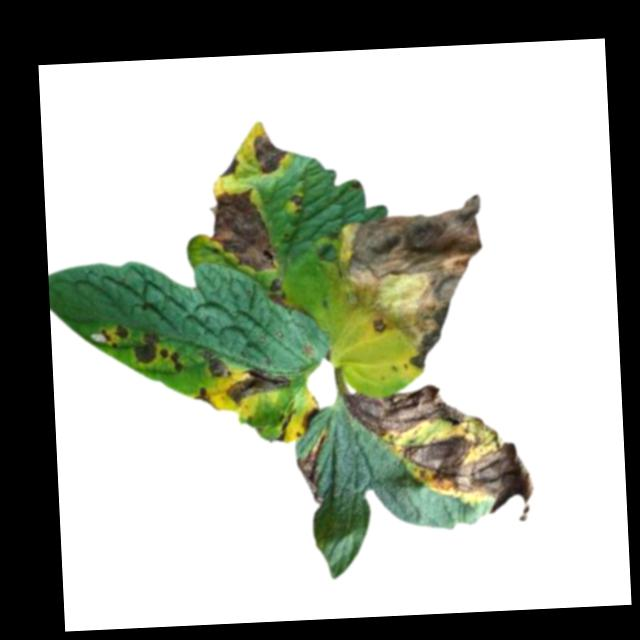Early_blight: (334, 192, 489, 374), (388, 432, 538, 530), (342, 380, 486, 441), (206, 184, 281, 275), (225, 363, 293, 406), (294, 434, 328, 504), (253, 127, 292, 178), (132, 330, 160, 366), (199, 349, 231, 380), (155, 345, 185, 376), (101, 320, 129, 351), (297, 404, 321, 435), (191, 385, 214, 414), (216, 153, 240, 178), (266, 277, 286, 303), (286, 192, 302, 215)
